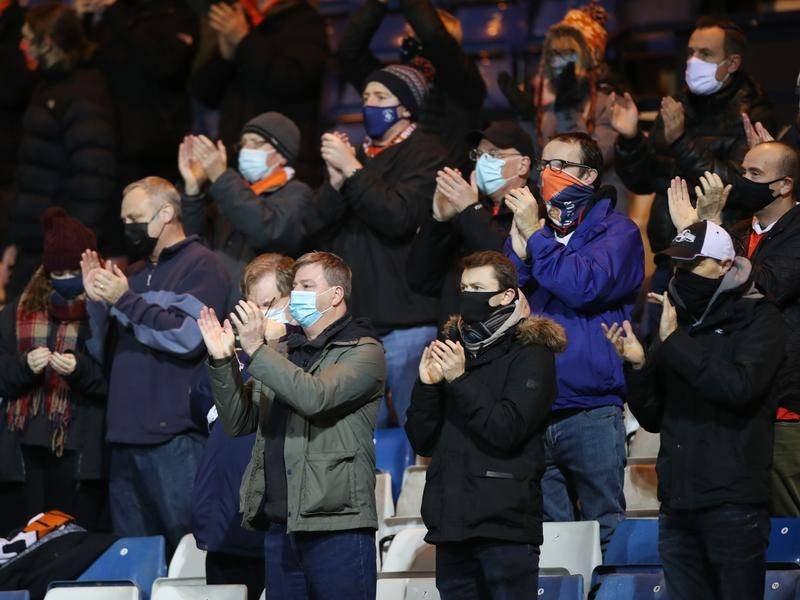with_mask: (292, 266, 330, 324), (688, 32, 725, 89), (535, 145, 579, 191), (48, 247, 83, 302), (119, 203, 156, 249), (359, 89, 395, 135), (676, 248, 711, 293), (461, 270, 491, 318), (740, 155, 776, 192), (547, 40, 582, 77), (476, 140, 506, 182), (245, 133, 263, 176)
